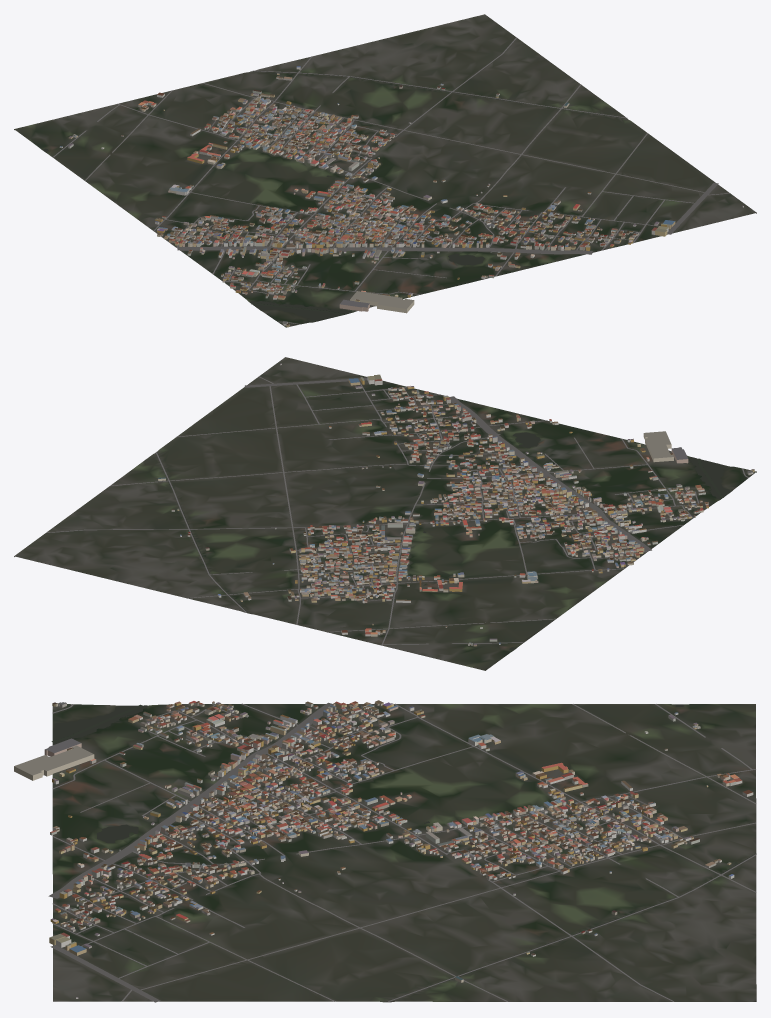
3 views of the same model, one above another, from view 1: azimuth 30°, elevation 25°; view 2: azimuth 150°, elevation 25°; view 3: azimuth 270°, elevation 25° (orthographic). The views are drawn at different scales.
Visible parts, largest first — view 1: ground, buildings, roads, water; view 2: ground, buildings, roads, water; view 3: ground, buildings, roads, water.
Part boxes in pixels (bbox=[...]): ground: bbox=[14, 14, 756, 327]; buildings: bbox=[59, 66, 743, 327]; roads: bbox=[52, 37, 730, 324]; water: bbox=[43, 71, 627, 321]; ground: bbox=[14, 357, 756, 670]; buildings: bbox=[158, 363, 754, 646]; roads: bbox=[46, 376, 748, 645]; water: bbox=[157, 432, 730, 649]; ground: bbox=[52, 704, 756, 1002]; buildings: bbox=[14, 700, 753, 998]; roads: bbox=[48, 702, 756, 1002]; water: bbox=[51, 704, 756, 1001].
Size of the model in its own units: 1417 by 23.04 by 1481.
